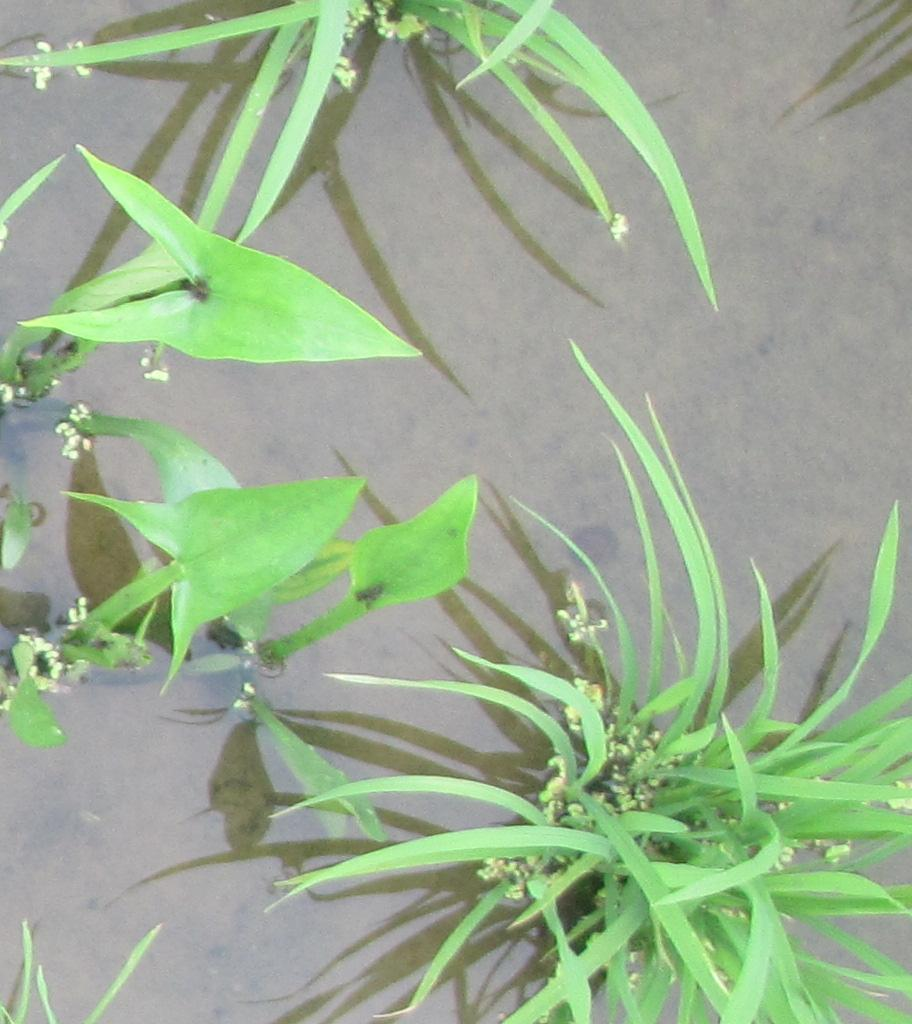Weed: (78, 192, 427, 372), (119, 474, 482, 635)
